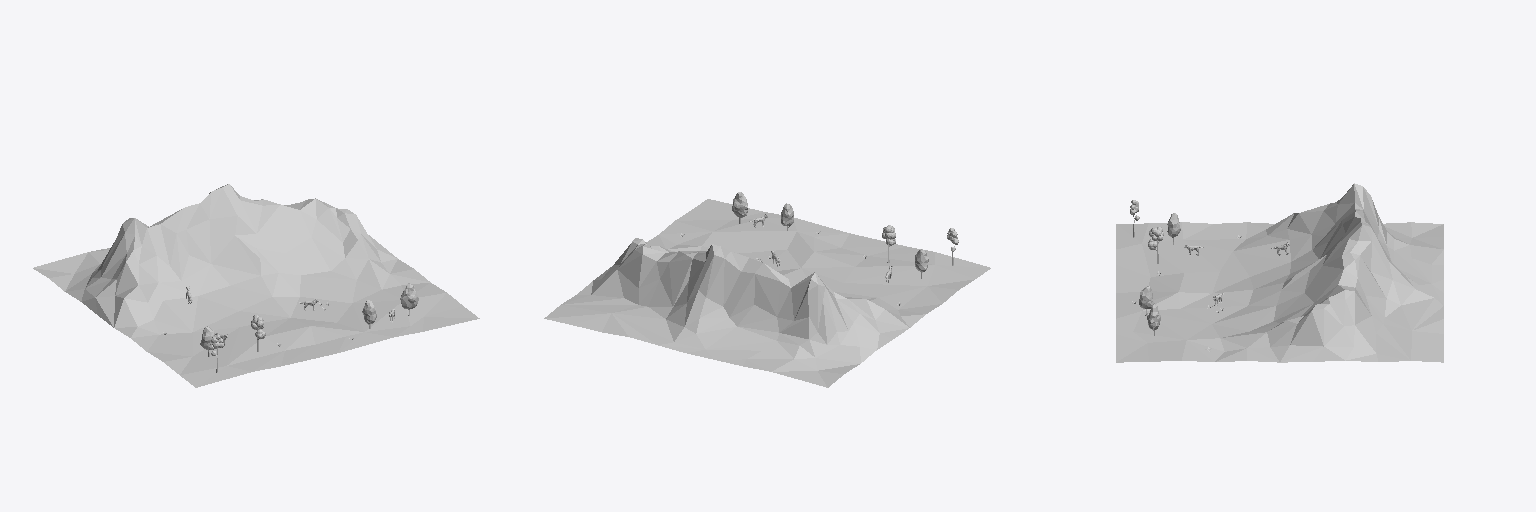
The model's file is wolves island.obj.
3 renders of one model, left to right at view 1: azimuth 30°, elevation 25°; view 2: azimuth 150°, elevation 25°; view 3: azimuth 270°, elevation 25°, orthographic.
Visible parts, largest first — view 1: terrain-mountain-range_1; view 2: terrain-mountain-range_1; view 3: terrain-mountain-range_1.
Part boxes in pixels (x1,y1,x2,y2): terrain-mountain-range_1: (33,184,479,387); terrain-mountain-range_1: (544,199,990,387); terrain-mountain-range_1: (1116,183,1443,362).
Bounding box in the file's own units: 60 × 15.56 × 60.